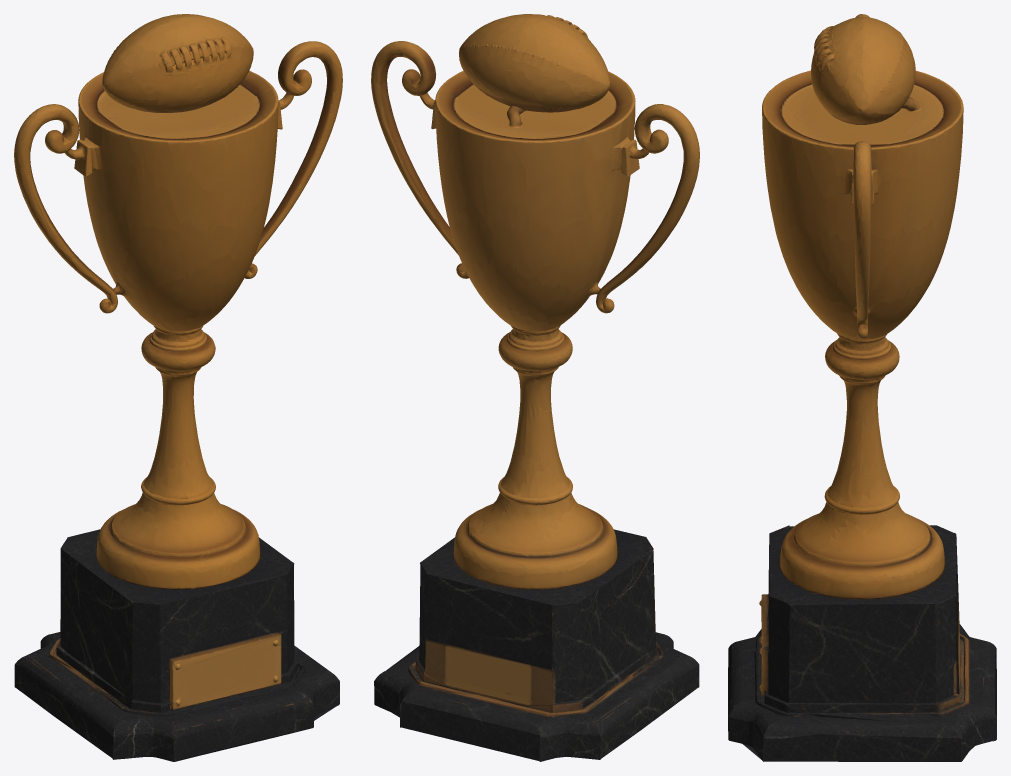
File: trophy.glb
3 renders of one model, left to right at view 1: azimuth 30°, elevation 25°; view 2: azimuth 150°, elevation 25°; view 3: azimuth 270°, elevation 25°, orthographic.
Bounding box in the file's own units: 0.9588 × 1.9 × 0.6794.
Materials: 1 (1 with a texture image).
